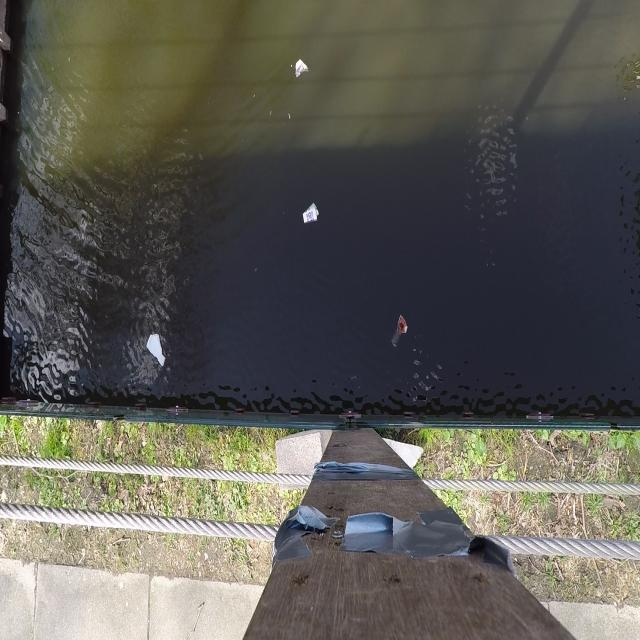Autre plastique: (144, 332, 168, 372)
Non plastique: (300, 200, 324, 230)
